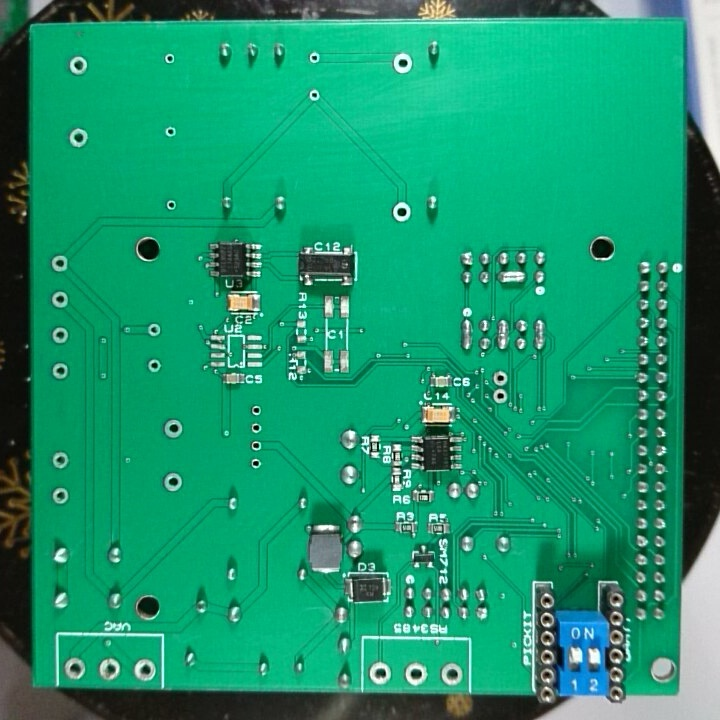F: (388, 198, 417, 225), (366, 658, 393, 686), (131, 656, 157, 683), (96, 656, 122, 683), (61, 655, 88, 681), (390, 49, 416, 76), (65, 125, 91, 151), (439, 661, 463, 689), (161, 416, 186, 441), (402, 660, 426, 685), (66, 54, 91, 77), (159, 471, 186, 492), (48, 252, 71, 275), (49, 485, 71, 509), (48, 359, 71, 381), (49, 449, 71, 471), (49, 325, 71, 347), (48, 290, 71, 311), (305, 47, 323, 68), (491, 368, 510, 387), (248, 400, 267, 419), (161, 49, 179, 69), (248, 437, 268, 455), (145, 320, 162, 341), (491, 386, 509, 405), (145, 355, 163, 374), (247, 420, 267, 437), (247, 455, 265, 473), (305, 86, 323, 103), (163, 196, 179, 215), (163, 123, 179, 141)
P: (493, 266, 529, 286), (458, 317, 474, 353), (531, 316, 546, 350), (494, 316, 508, 350)
